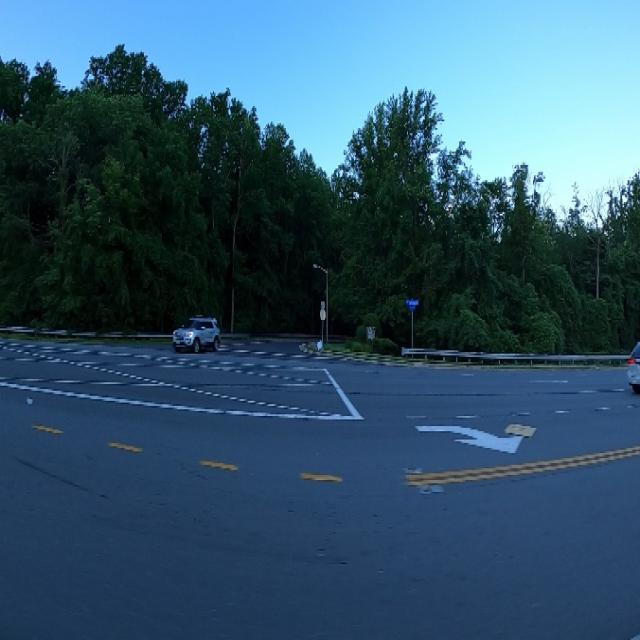cars: (170, 308, 219, 362), (629, 327, 640, 406)
